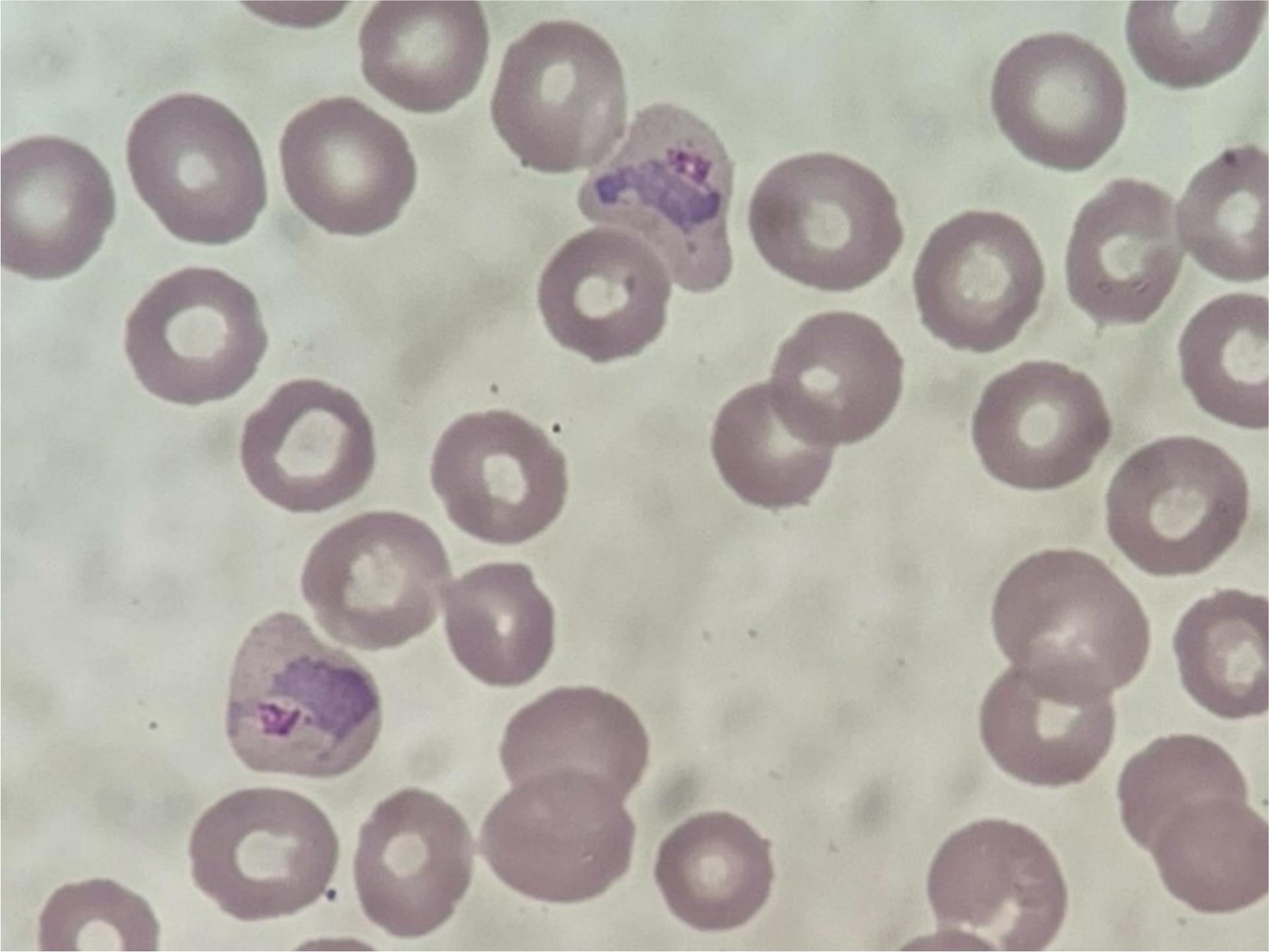Infected: (535, 663, 692, 842), (886, 169, 1046, 333)
Uninfected: (122, 253, 276, 399), (366, 661, 518, 797), (21, 376, 163, 515), (1002, 711, 1137, 857), (930, 32, 1079, 164), (636, 48, 785, 180), (640, 782, 773, 928), (822, 304, 964, 439), (1002, 547, 1141, 682), (853, 717, 987, 853), (795, 15, 917, 164), (204, 4, 348, 130), (142, 783, 275, 917), (597, 590, 728, 725), (701, 409, 835, 540), (224, 602, 352, 739), (158, 463, 295, 591), (85, 628, 206, 772), (894, 440, 1028, 570), (367, 509, 503, 637), (621, 155, 767, 265), (1155, 676, 1269, 815), (434, 445, 558, 570), (154, 165, 287, 278), (23, 99, 147, 216), (0, 38, 115, 159), (714, 264, 826, 386), (781, 842, 905, 951), (496, 21, 611, 136), (3, 672, 95, 805), (1, 232, 95, 360), (3, 523, 90, 656), (5, 863, 139, 947), (1111, 3, 1230, 72)
